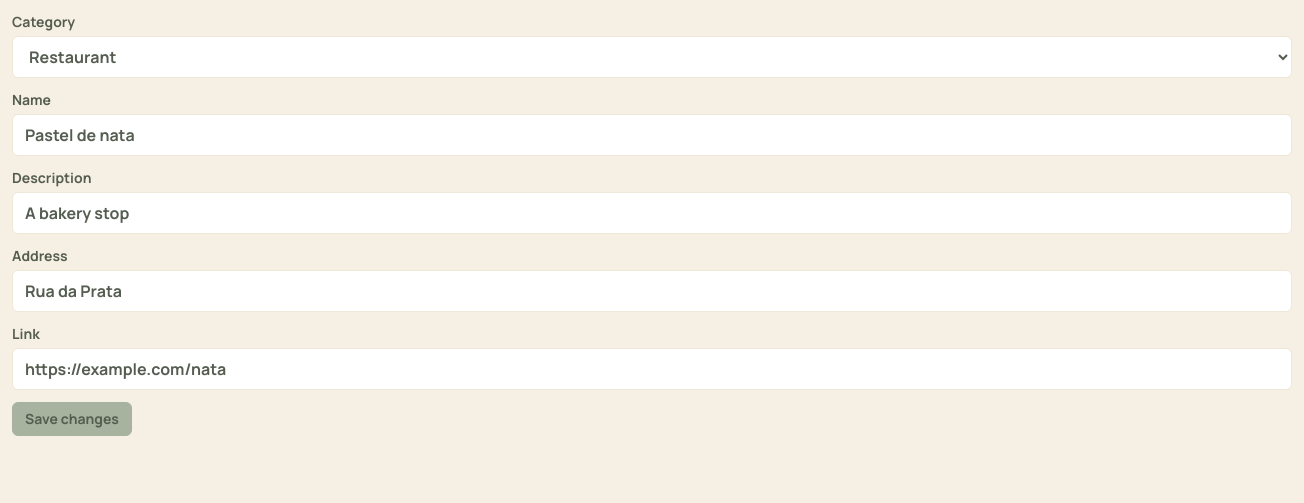
Test: EditSuggestionForm › saves changes to the suggestion
Replace the text in the field labelled "Name" with "Custard tart": (652, 135) 12,114 -> 1292,156
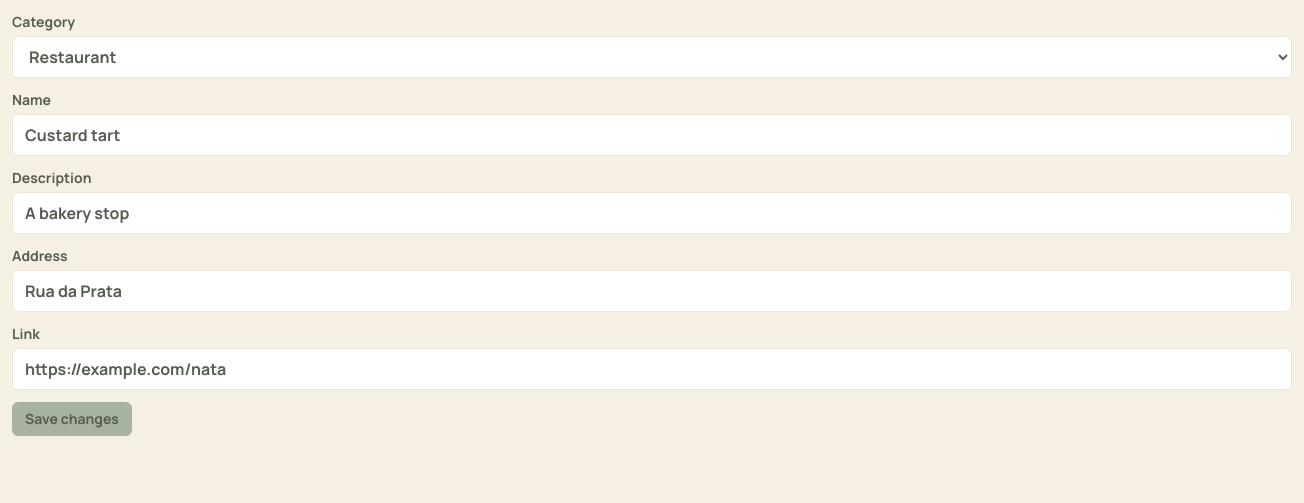
Select "Activity" in the dropdown labelled "Category": (652, 57) 12,36 -> 1292,78
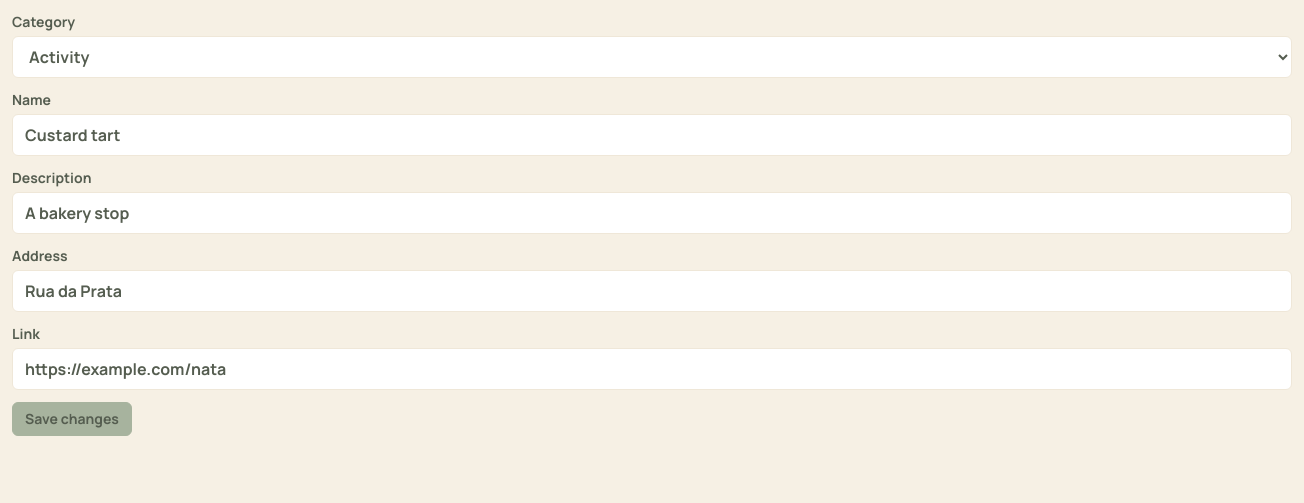
Click the button "Save changes": (72, 419) 12,402 -> 132,436
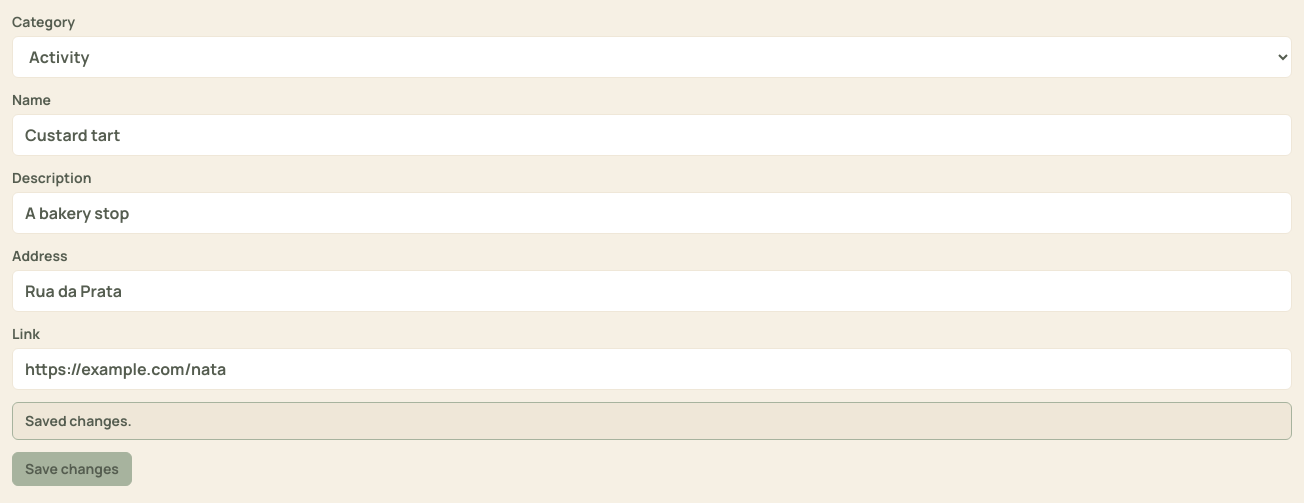
Check: the message reads "Saved changes.", box 25,411 -> 132,430
